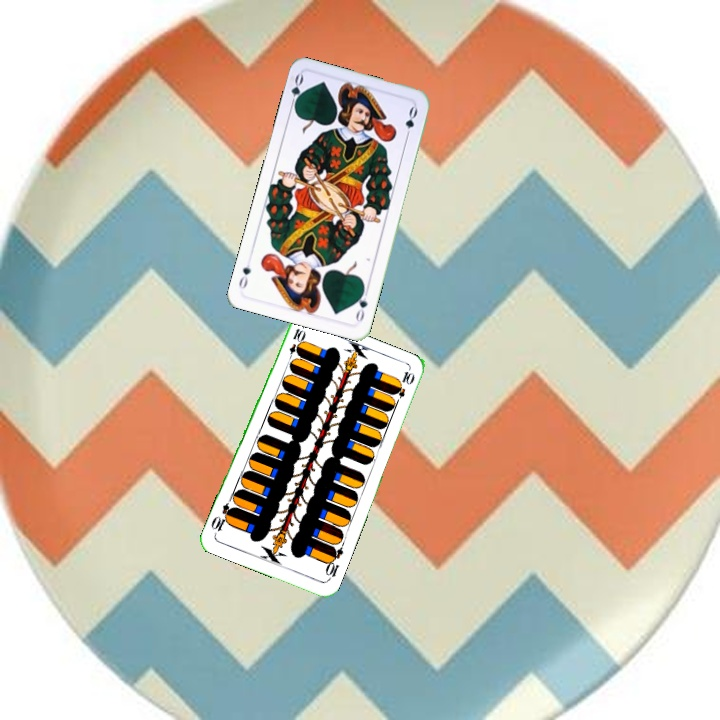E10: (321, 543, 346, 583), (284, 324, 306, 365)
GO: (286, 70, 306, 112), (351, 284, 371, 324)
